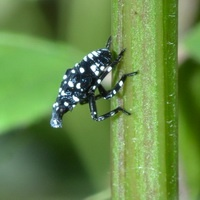insect: (50, 36, 137, 127)
